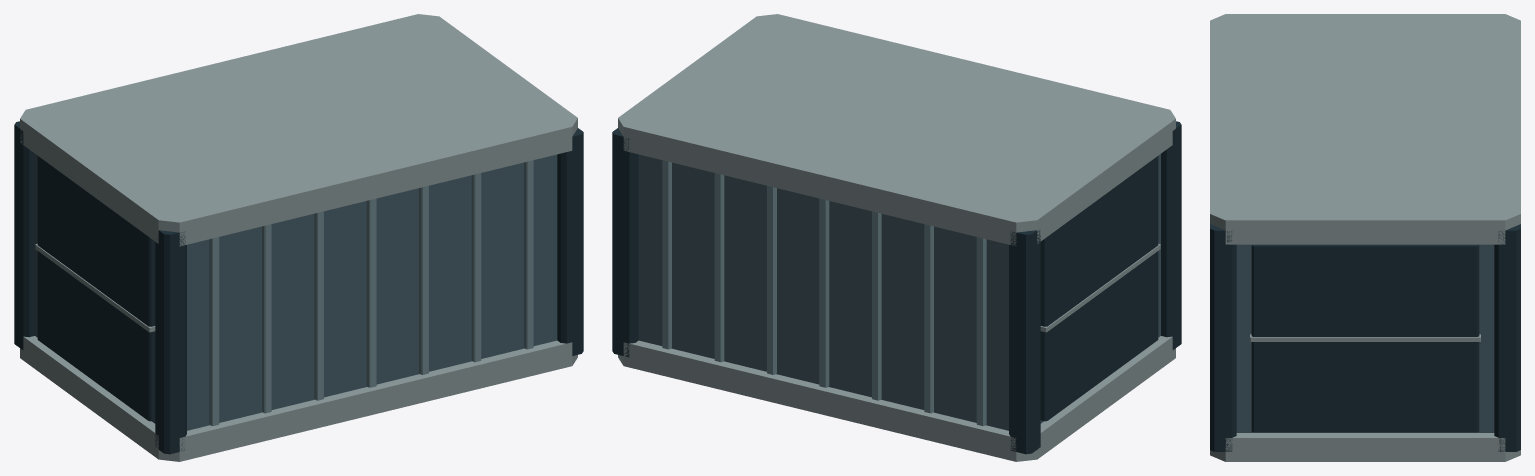
The model's file is cargo.glb.
3 views of the same model, side by side, from view 1: azimuth 30°, elevation 25°; view 2: azimuth 150°, elevation 25°; view 3: azimuth 270°, elevation 25° (orthographic).
Visible parts, largest first — view 1: cargo; view 2: cargo; view 3: cargo.
Part boxes in pixels (x1,y1,x2,y2): cargo: (14, 14, 583, 461); cargo: (612, 14, 1181, 461); cargo: (1210, 14, 1520, 461).
Size of the model in its own units: 4.4 by 2.4 by 2.8.
